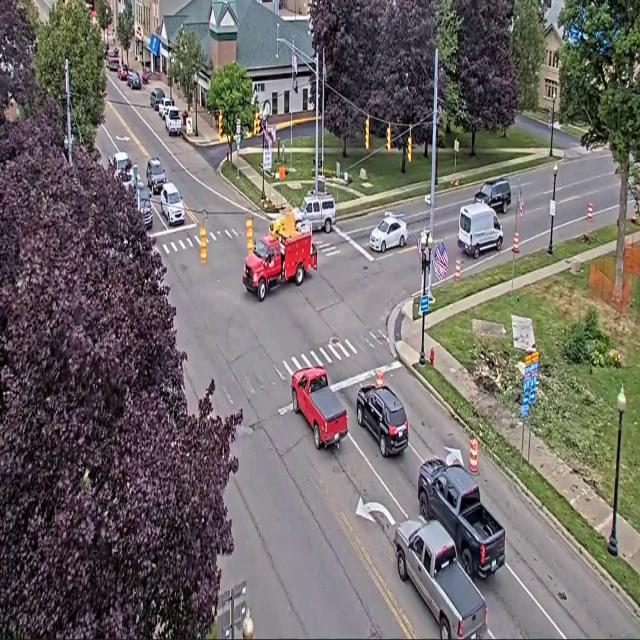car: (356, 384, 408, 457), (294, 192, 335, 232), (369, 214, 408, 253), (474, 178, 511, 213), (161, 183, 184, 225), (137, 181, 152, 229), (146, 158, 166, 193), (112, 152, 130, 176), (150, 87, 165, 111), (158, 97, 174, 119), (127, 71, 141, 89), (108, 56, 119, 71), (118, 65, 128, 81)
traffic signal: (246, 215, 254, 253), (200, 224, 206, 263), (254, 112, 261, 135), (386, 125, 392, 151), (407, 135, 412, 162), (365, 117, 369, 150), (218, 112, 222, 136)
truck: (395, 520, 487, 639), (418, 458, 505, 578), (243, 212, 317, 301), (291, 367, 347, 448), (165, 107, 182, 135)
